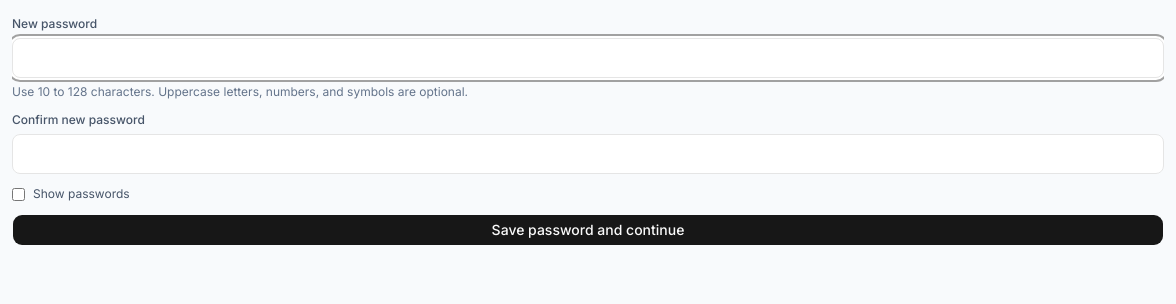
it: mismatching confirmation shows customer-safe copy and does not reveal the token
Type "long-enough-password" into the password field labelled "New password".
click(588, 58); type("long-enough-password")  # box [12,38,1164,78]
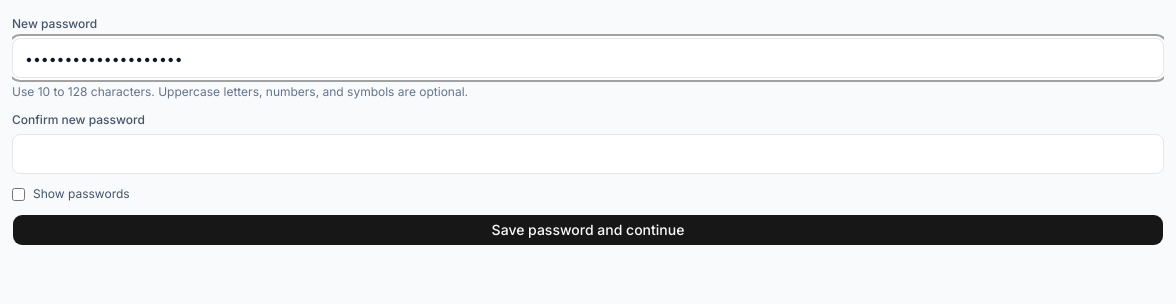
Type "different-password" into the password field labelled "Confirm new password".
click(588, 154); type("different-password")  # box [12,134,1164,174]
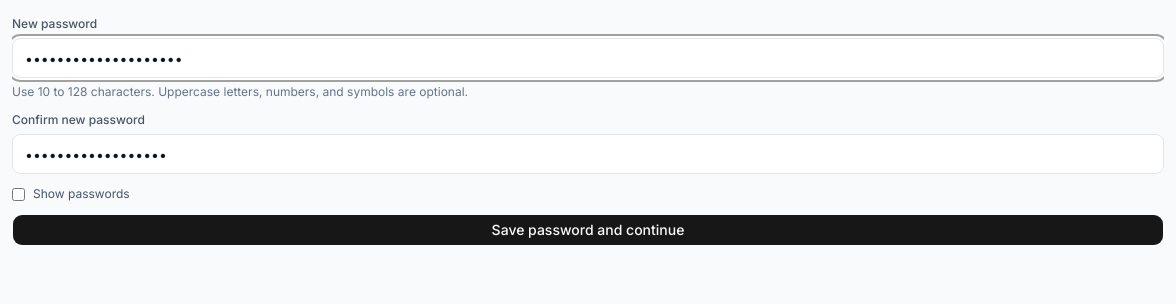
Submit the form named "Save password and continue"
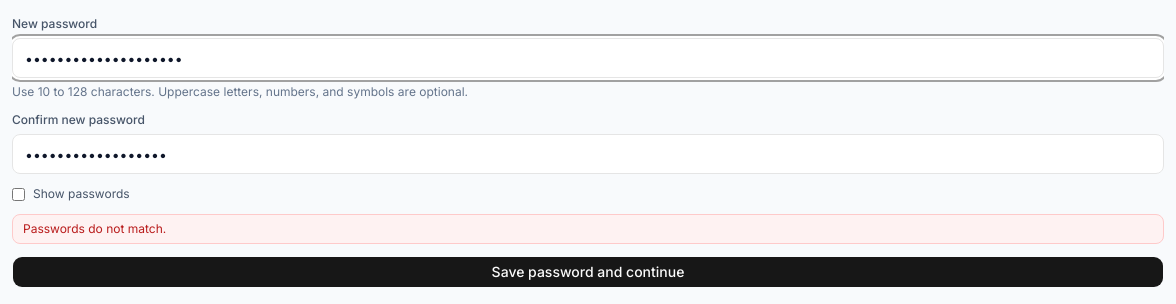
Check: the message "Passwords do not match." is shown, box [12,214,1164,244]
Check: the message reads "Passwords do not match.", box [23,221,166,236]
